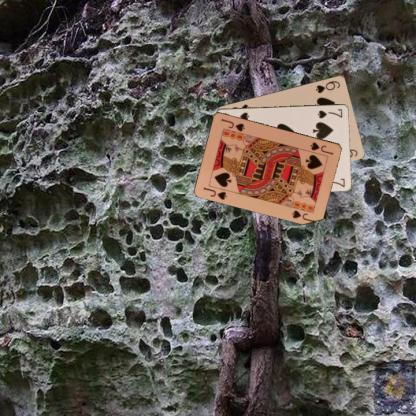6s: (313, 78, 342, 94)
7s: (315, 106, 344, 119)
Js: (201, 184, 228, 201), (308, 139, 334, 156)
